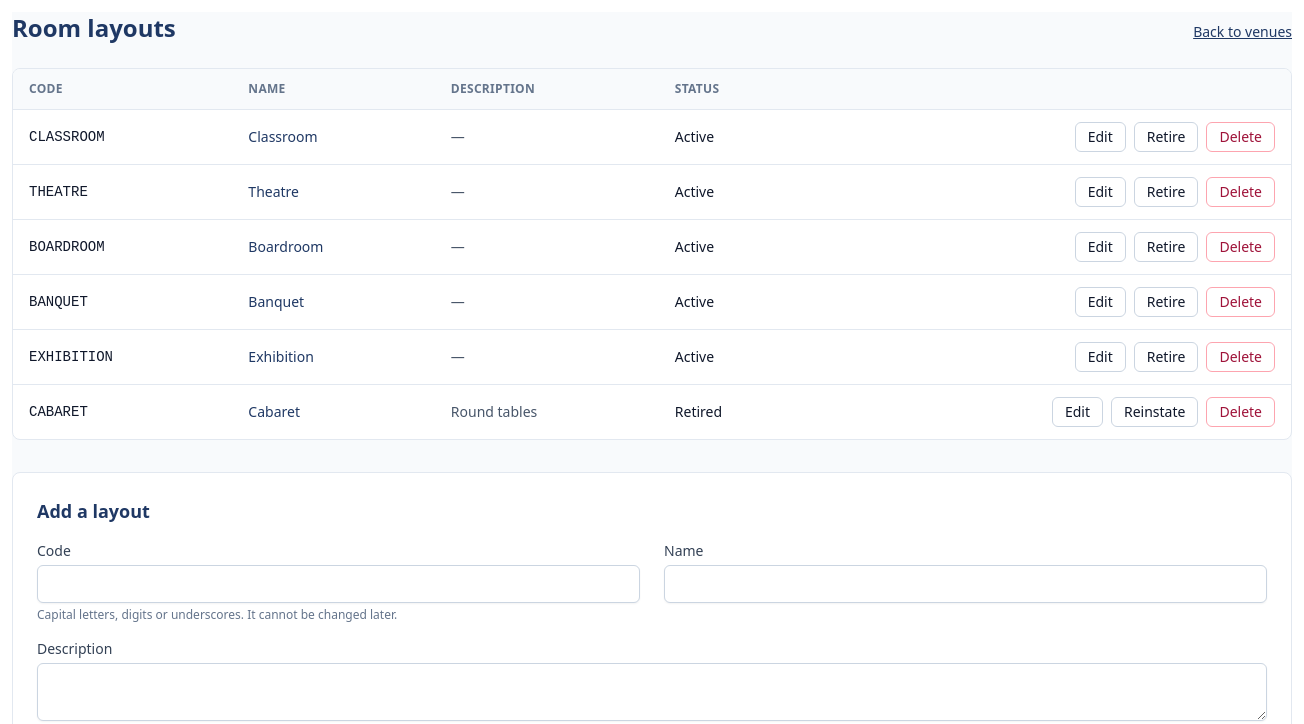
RoomLayouts (SCRUM-91) › AC3: retires an active layout and reinstates a retired one
Click the button with aria-label "Retire Classroom": (1166, 137) [1134, 122, 1198, 152]
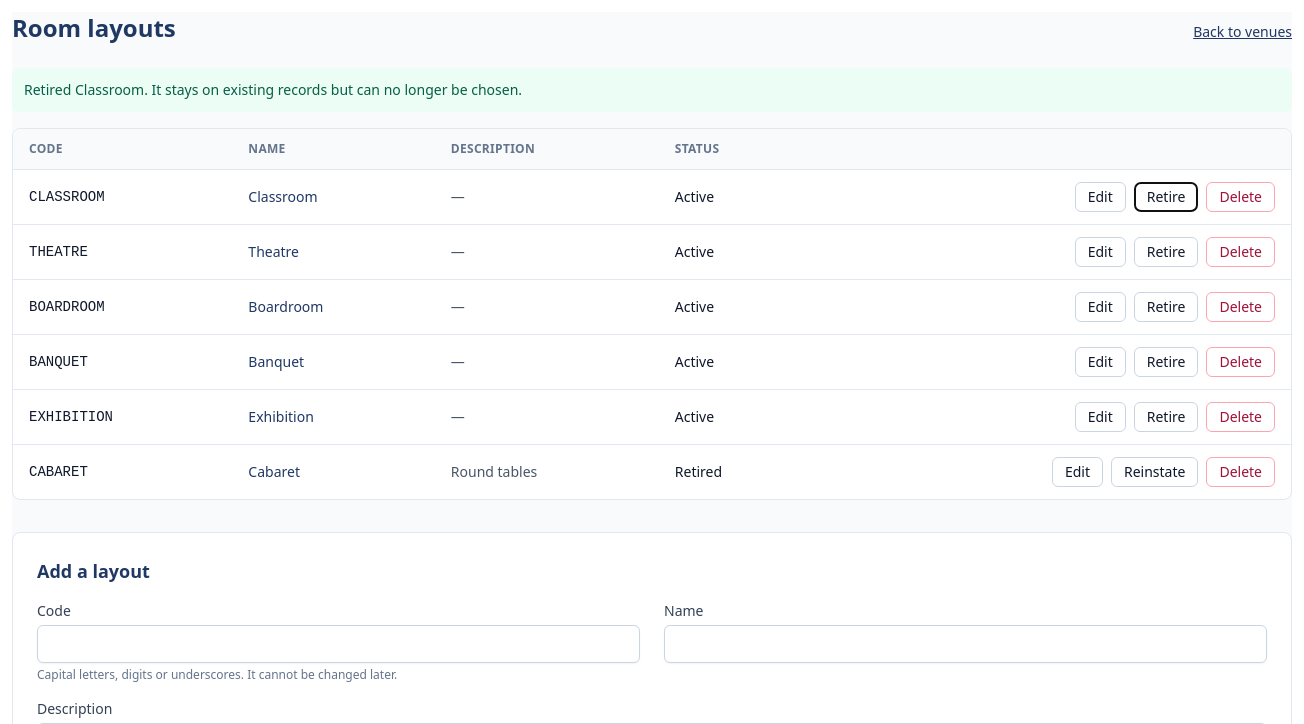
Click the button with aria-label "Reinstate Cabaret": (1155, 472) [1111, 457, 1198, 487]
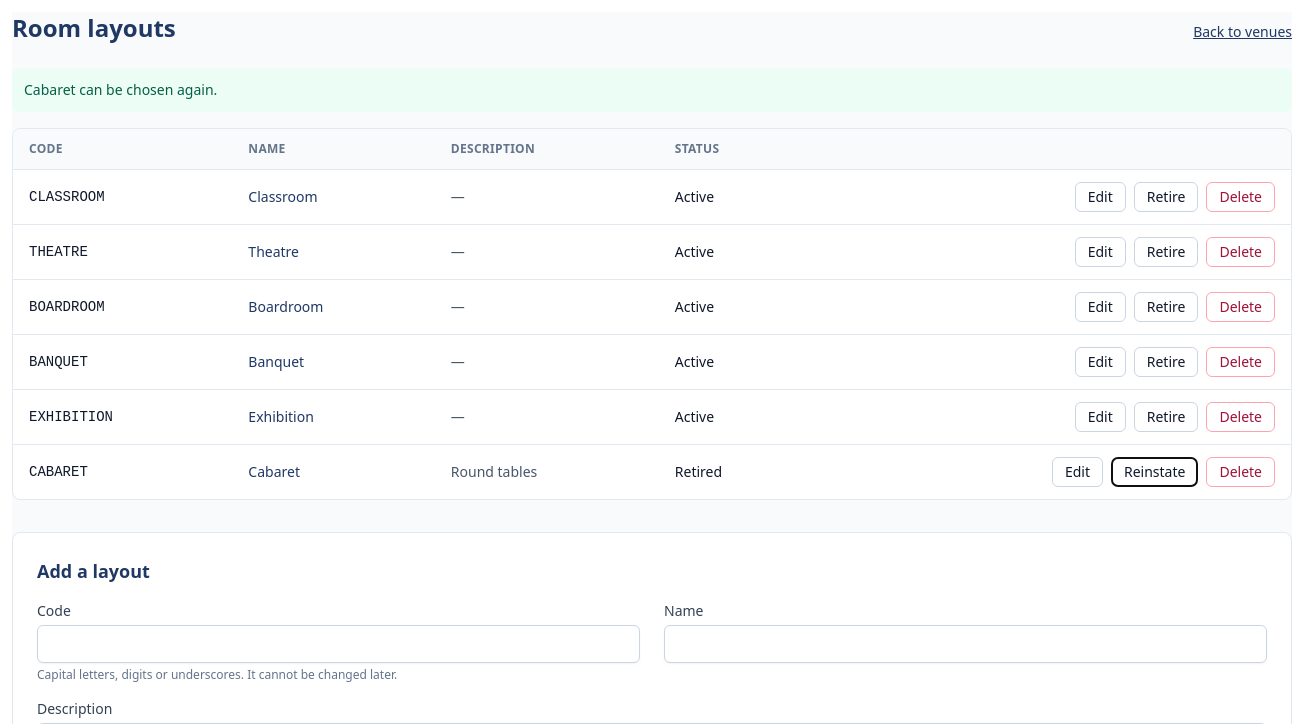
Check: the message reads "Cabaret can be chosen again.", box [24, 80, 217, 99]
